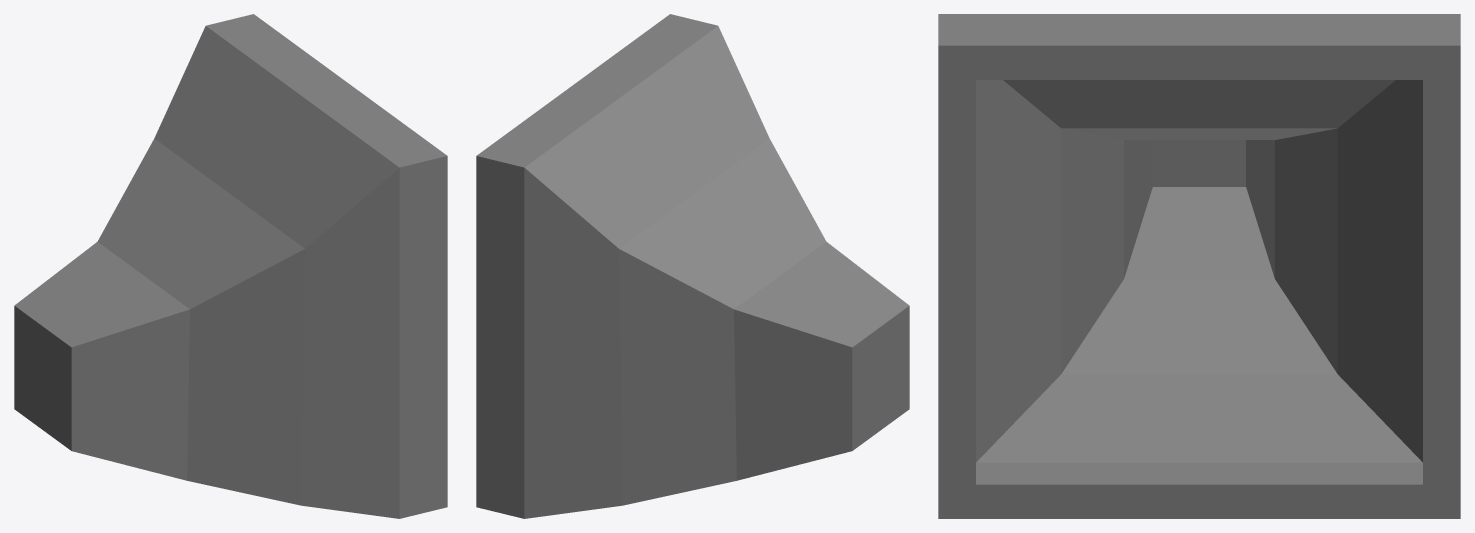
The model's file is chute.fbx.
3 renders of one model, left to right at view 1: azimuth 30°, elevation 25°; view 2: azimuth 150°, elevation 25°; view 3: azimuth 270°, elevation 25°, orthographic. The views are drawn at different scales.
Visible parts, largest first — view 1: Cube.001; view 2: Cube.001; view 3: Cube.001.
Part boxes in pixels (<box>): Cube.001: <box>14,14,447,518</box>; Cube.001: <box>476,14,909,518</box>; Cube.001: <box>938,14,1460,518</box>.
Bounding box in the file's own units: 621 × 678 × 678.
1 material, 1 textured.
